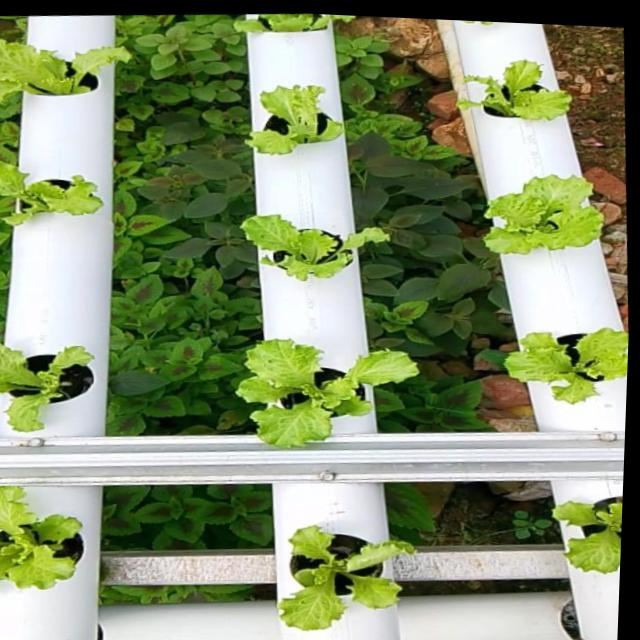Baby: (240, 339, 420, 444), (283, 522, 419, 626), (0, 485, 91, 597), (242, 216, 390, 281), (482, 175, 602, 254), (504, 326, 628, 401), (0, 343, 101, 431), (0, 44, 131, 107), (0, 163, 108, 228), (455, 62, 569, 121), (247, 88, 344, 157), (555, 494, 623, 568)
